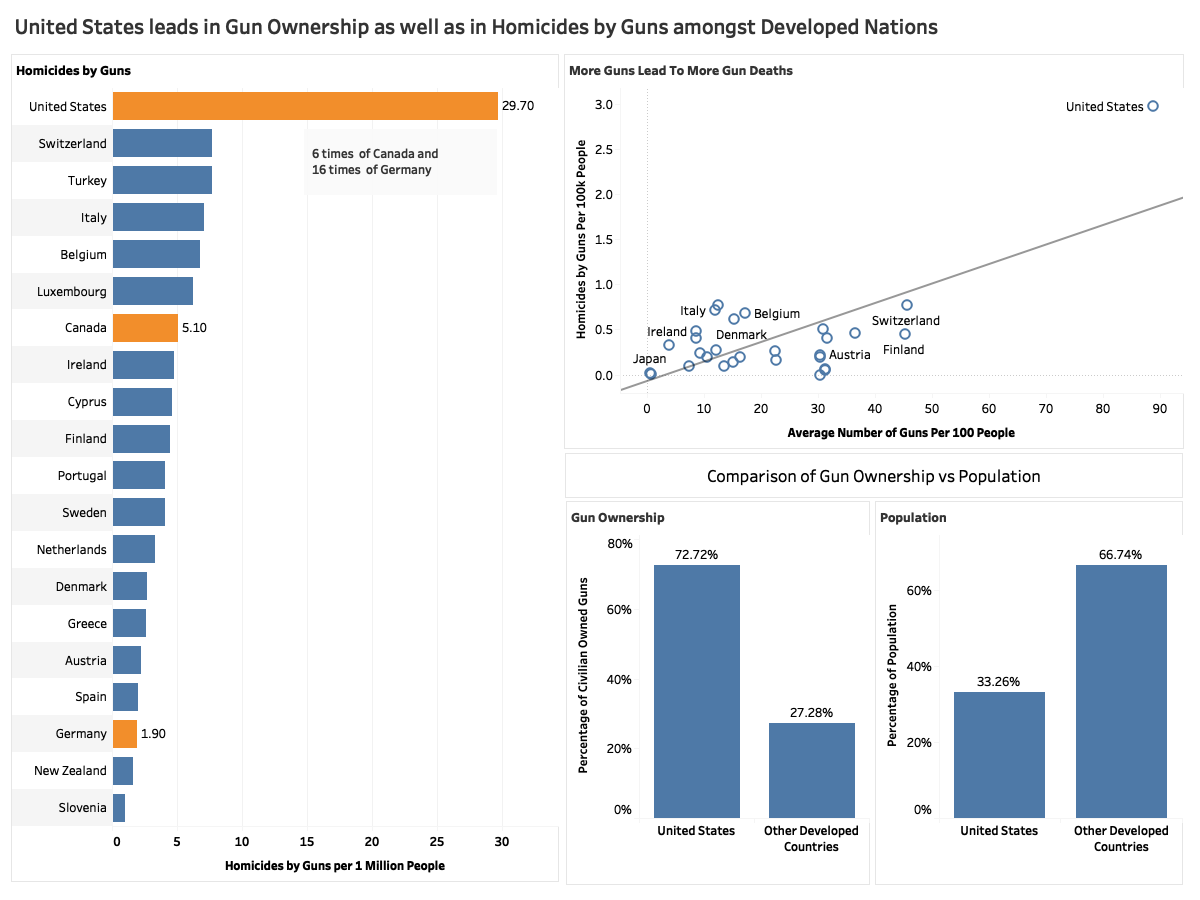

The page's visual inventory and layout, read from the dashboard file:
{"tool":"tableau","page":{"name":"CountryAnalysis","canvas":[1000,800],"ordinal":0},"visuals":[{"type":"title","box":[8,8,984,36]},{"type":"worksheet","title":"country_gunHomicides","mark":"Automatic","rows":["Calculation_19632942008631296"],"cols":["Country"],"box":[9,55,594,416]},{"type":"text","box":[604,55,390,40]},{"type":"worksheet","title":"countrywise_USRest_gunOwnership","mark":"Automatic","rows":["avg_tot_all_guns"],"box":[604,98,390,373]},{"type":"worksheet","title":"countrywise_USRest_population","mark":"Automatic","rows":["pop2019"],"box":[604,473,390,328]}]}

Visuals, with their boxes on the page's 1000x800 design canvas (x1, y1, x2, y2). These are canvas units, not pixel positions in the 1200x900 screenshot, which may show the page scaled, cropped or inside an application window:
title: (left=8, top=8, right=992, bottom=44)
"country_gunHomicides" worksheet: (left=9, top=55, right=603, bottom=471)
text: (left=604, top=55, right=994, bottom=95)
"countrywise_USRest_gunOwnership" worksheet: (left=604, top=98, right=994, bottom=471)
"countrywise_USRest_population" worksheet: (left=604, top=473, right=994, bottom=801)
